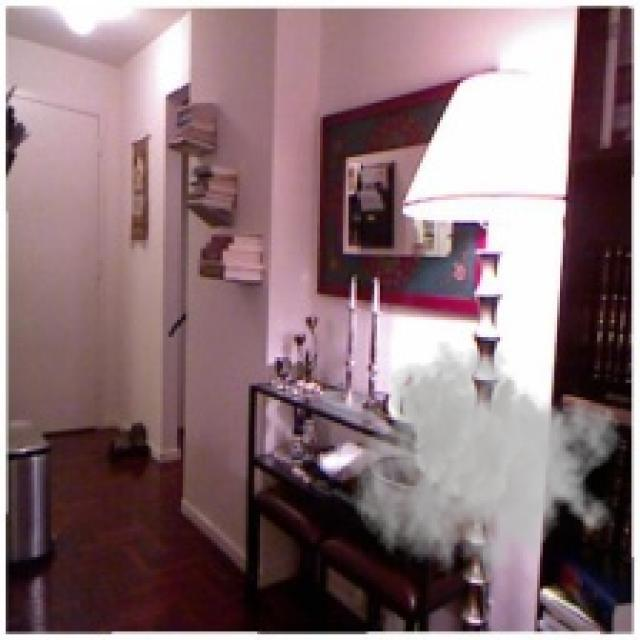smoke: (351, 340, 623, 603)
